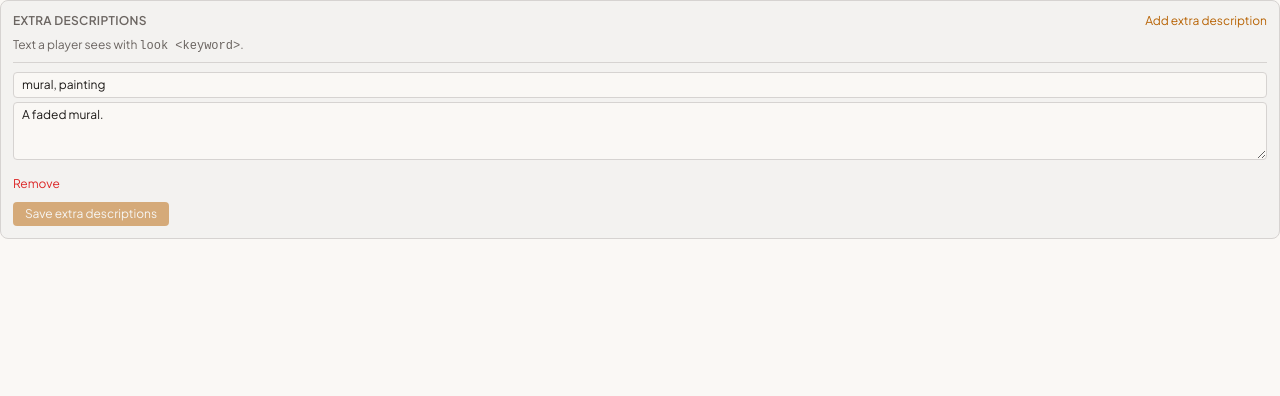
Test: RoomExtraDescriptionsEditor › adds, edits and saves the whole list
Expected: the button "Save extra descriptions" is disabled, left=13, top=202, right=169, bottom=226
Replace the text in the field named "Extra description 1 keywords" with "mural" at {"x": 640, "y": 85}, box left=13, top=72, right=1267, bottom=98
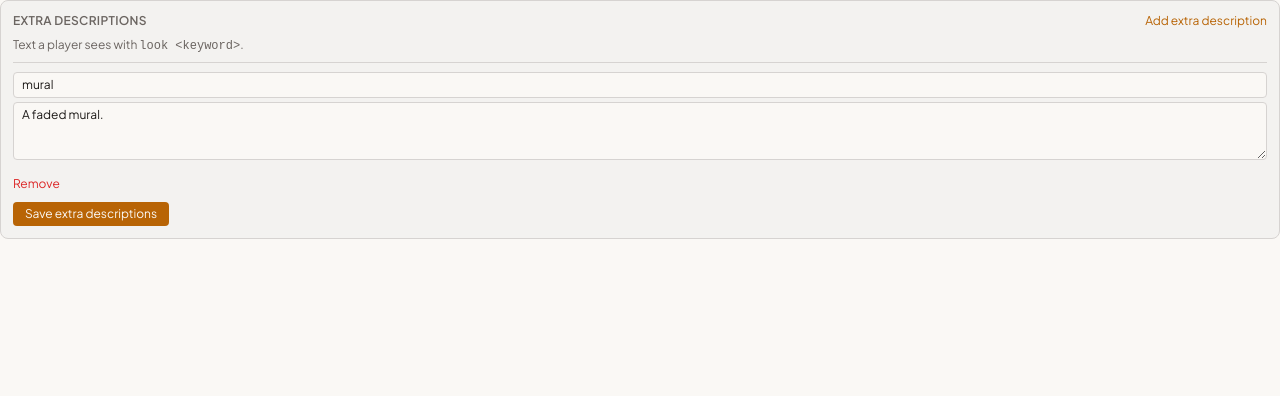
Replace the text in the text box named "Extra description 1 text" with "Faded." at {"x": 640, "y": 131}, box left=13, top=102, right=1267, bottom=160
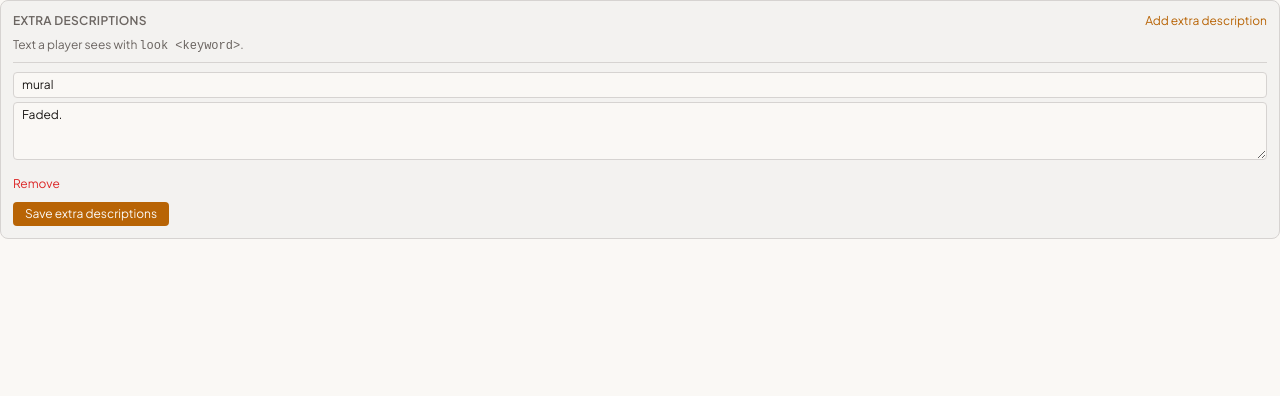
Click the button "Add extra description" at {"x": 1206, "y": 21}, box left=1145, top=13, right=1267, bottom=29
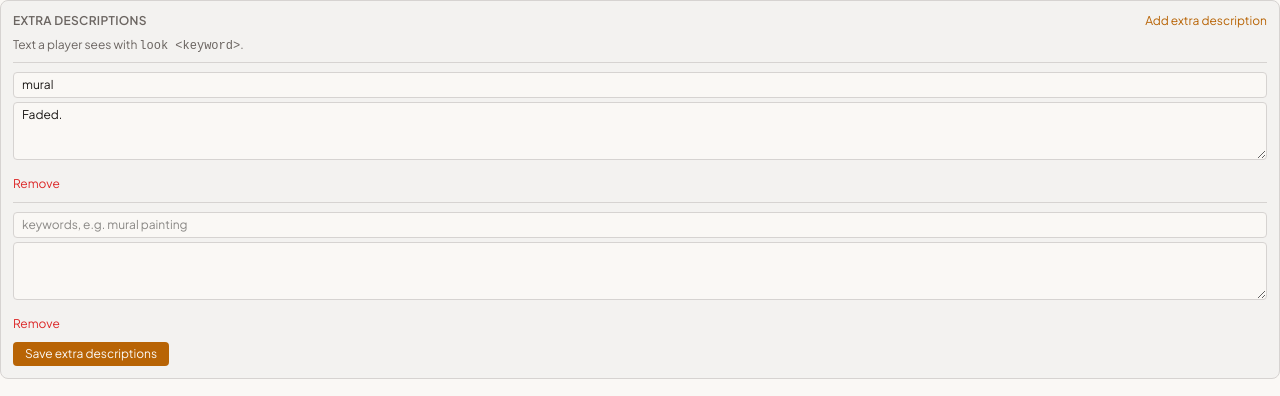
Type "altar, stone" into the field named "Extra description 2 keywords" at {"x": 640, "y": 225}, box left=13, top=212, right=1267, bottom=238
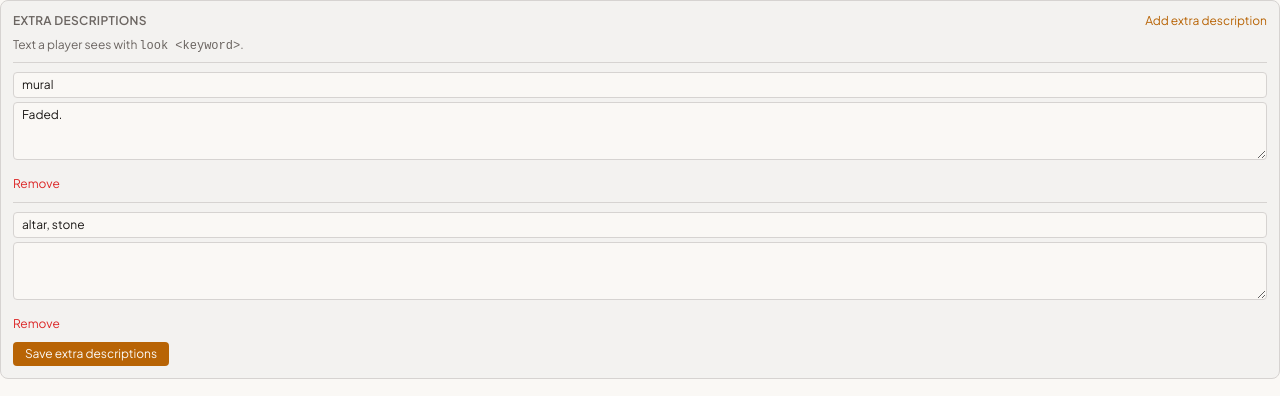
Type "Cold stone." into the text box named "Extra description 2 text" at {"x": 640, "y": 271}, box left=13, top=242, right=1267, bottom=300
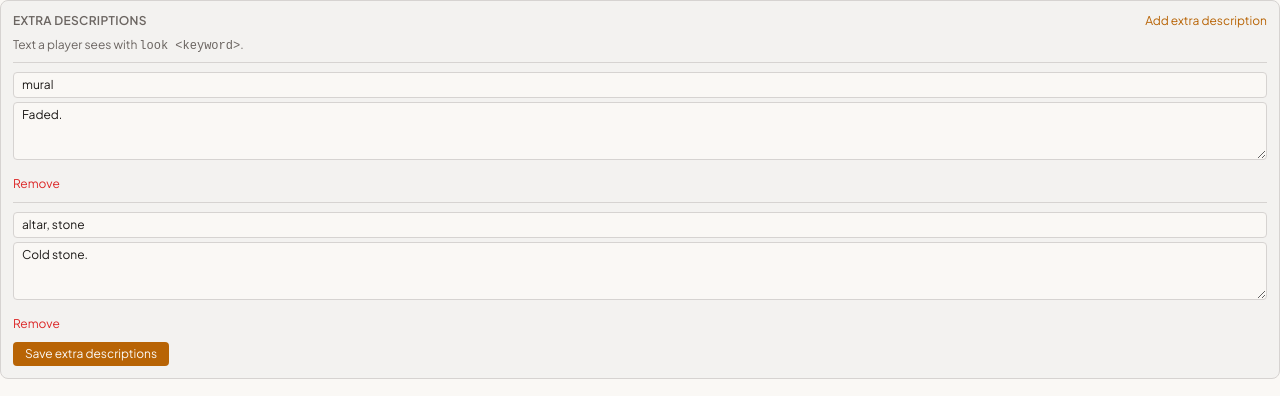
Click the button "Save extra descriptions" at {"x": 91, "y": 354}, box left=13, top=342, right=169, bottom=366
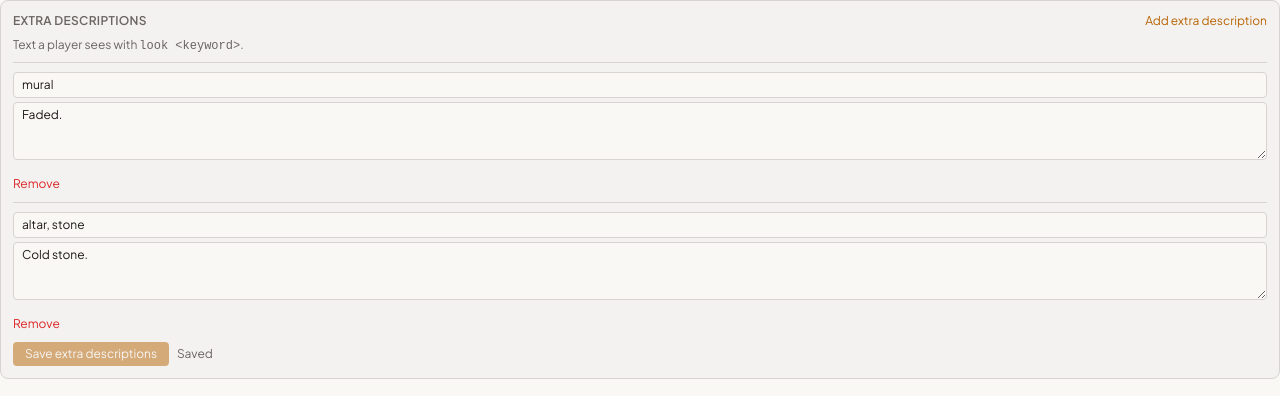
Expected: the message reads "Saved", left=177, top=346, right=213, bottom=361
